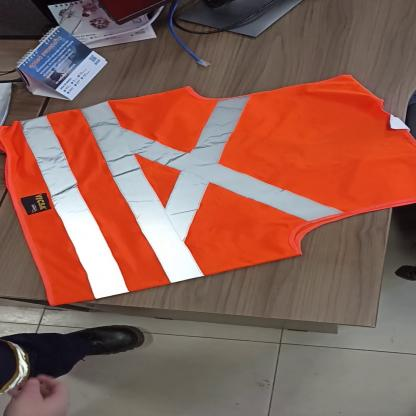colete: (0, 70, 416, 306)
